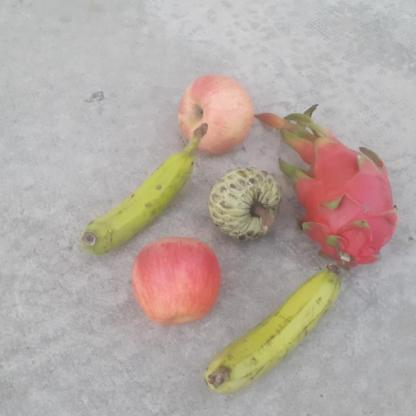annona: (208, 164, 285, 242)
apple: (131, 235, 225, 325), (176, 71, 256, 155)
banana: (206, 263, 344, 397), (82, 123, 214, 255)
pitaya: (291, 126, 402, 266)
